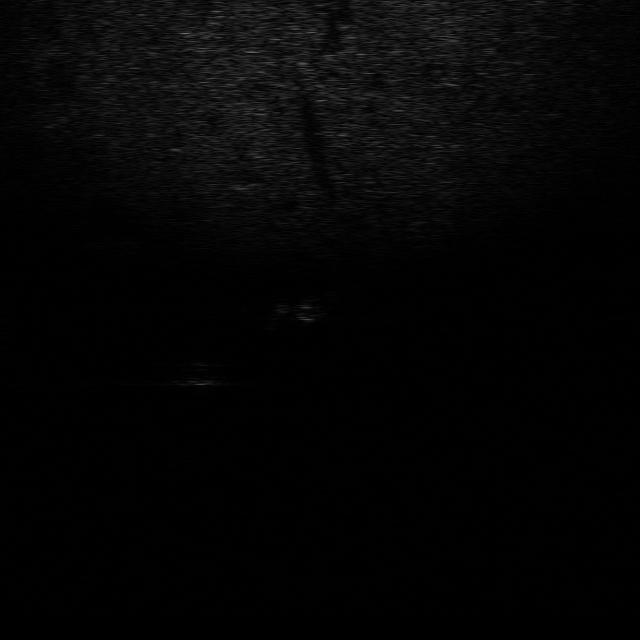ball: (165, 358, 231, 391)
human body: (258, 290, 342, 327)
